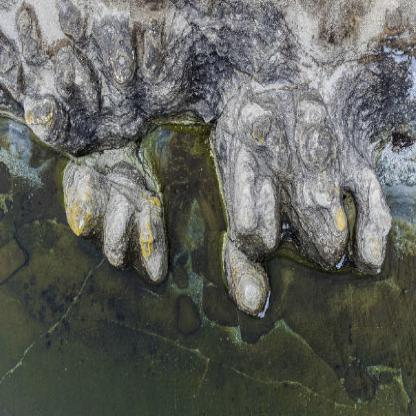Sedimentary_Limestone: (53, 151, 174, 288), (81, 18, 170, 114), (210, 245, 274, 329), (10, 7, 50, 75), (18, 81, 56, 144)
